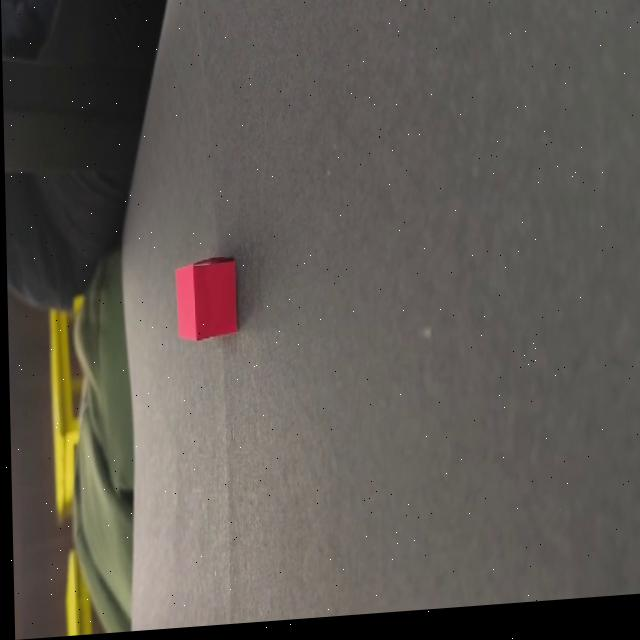red block: (173, 254, 238, 342)
